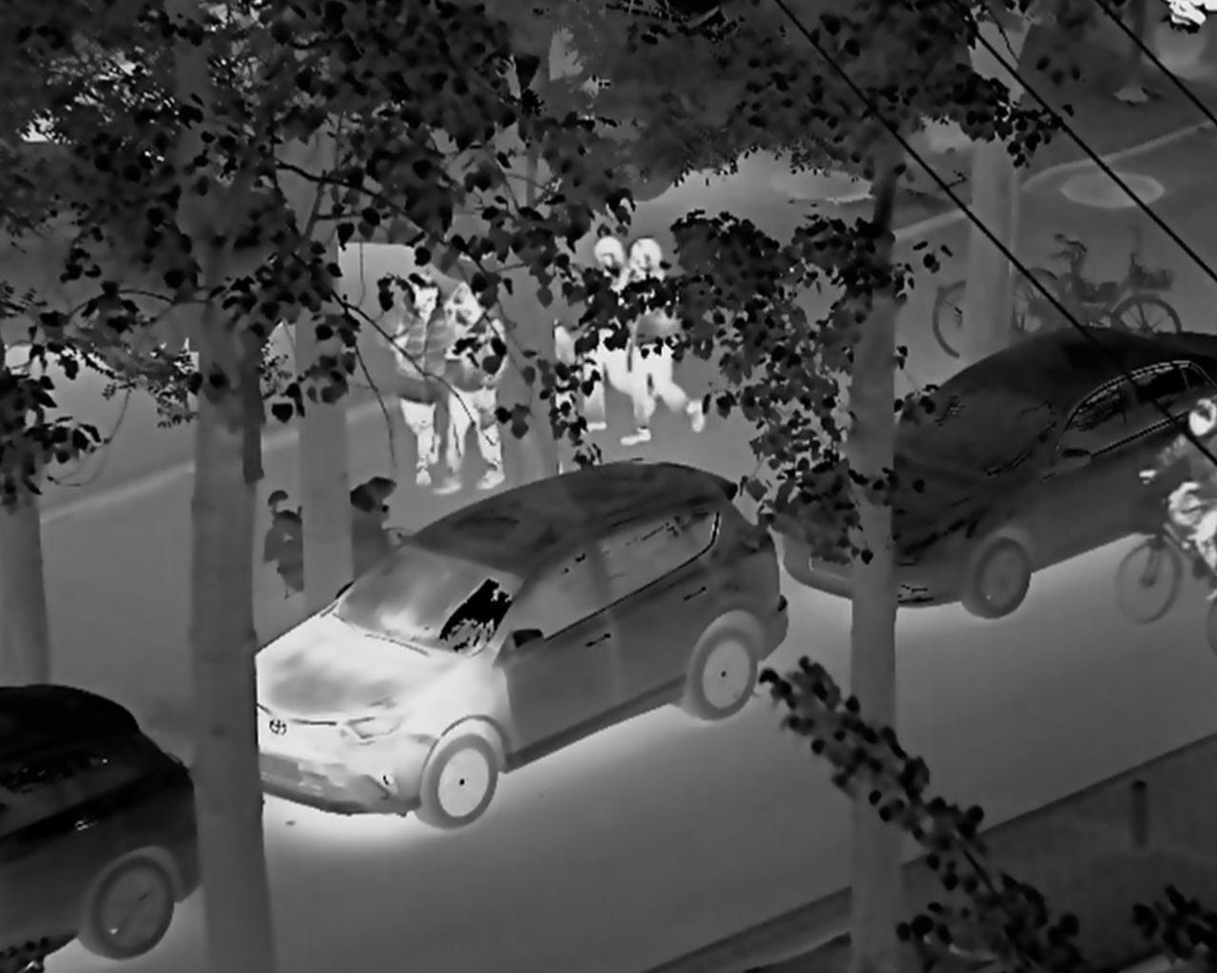person: (1142, 393, 1217, 651), (442, 265, 512, 496), (630, 235, 705, 444), (576, 230, 642, 465), (381, 266, 448, 489)
